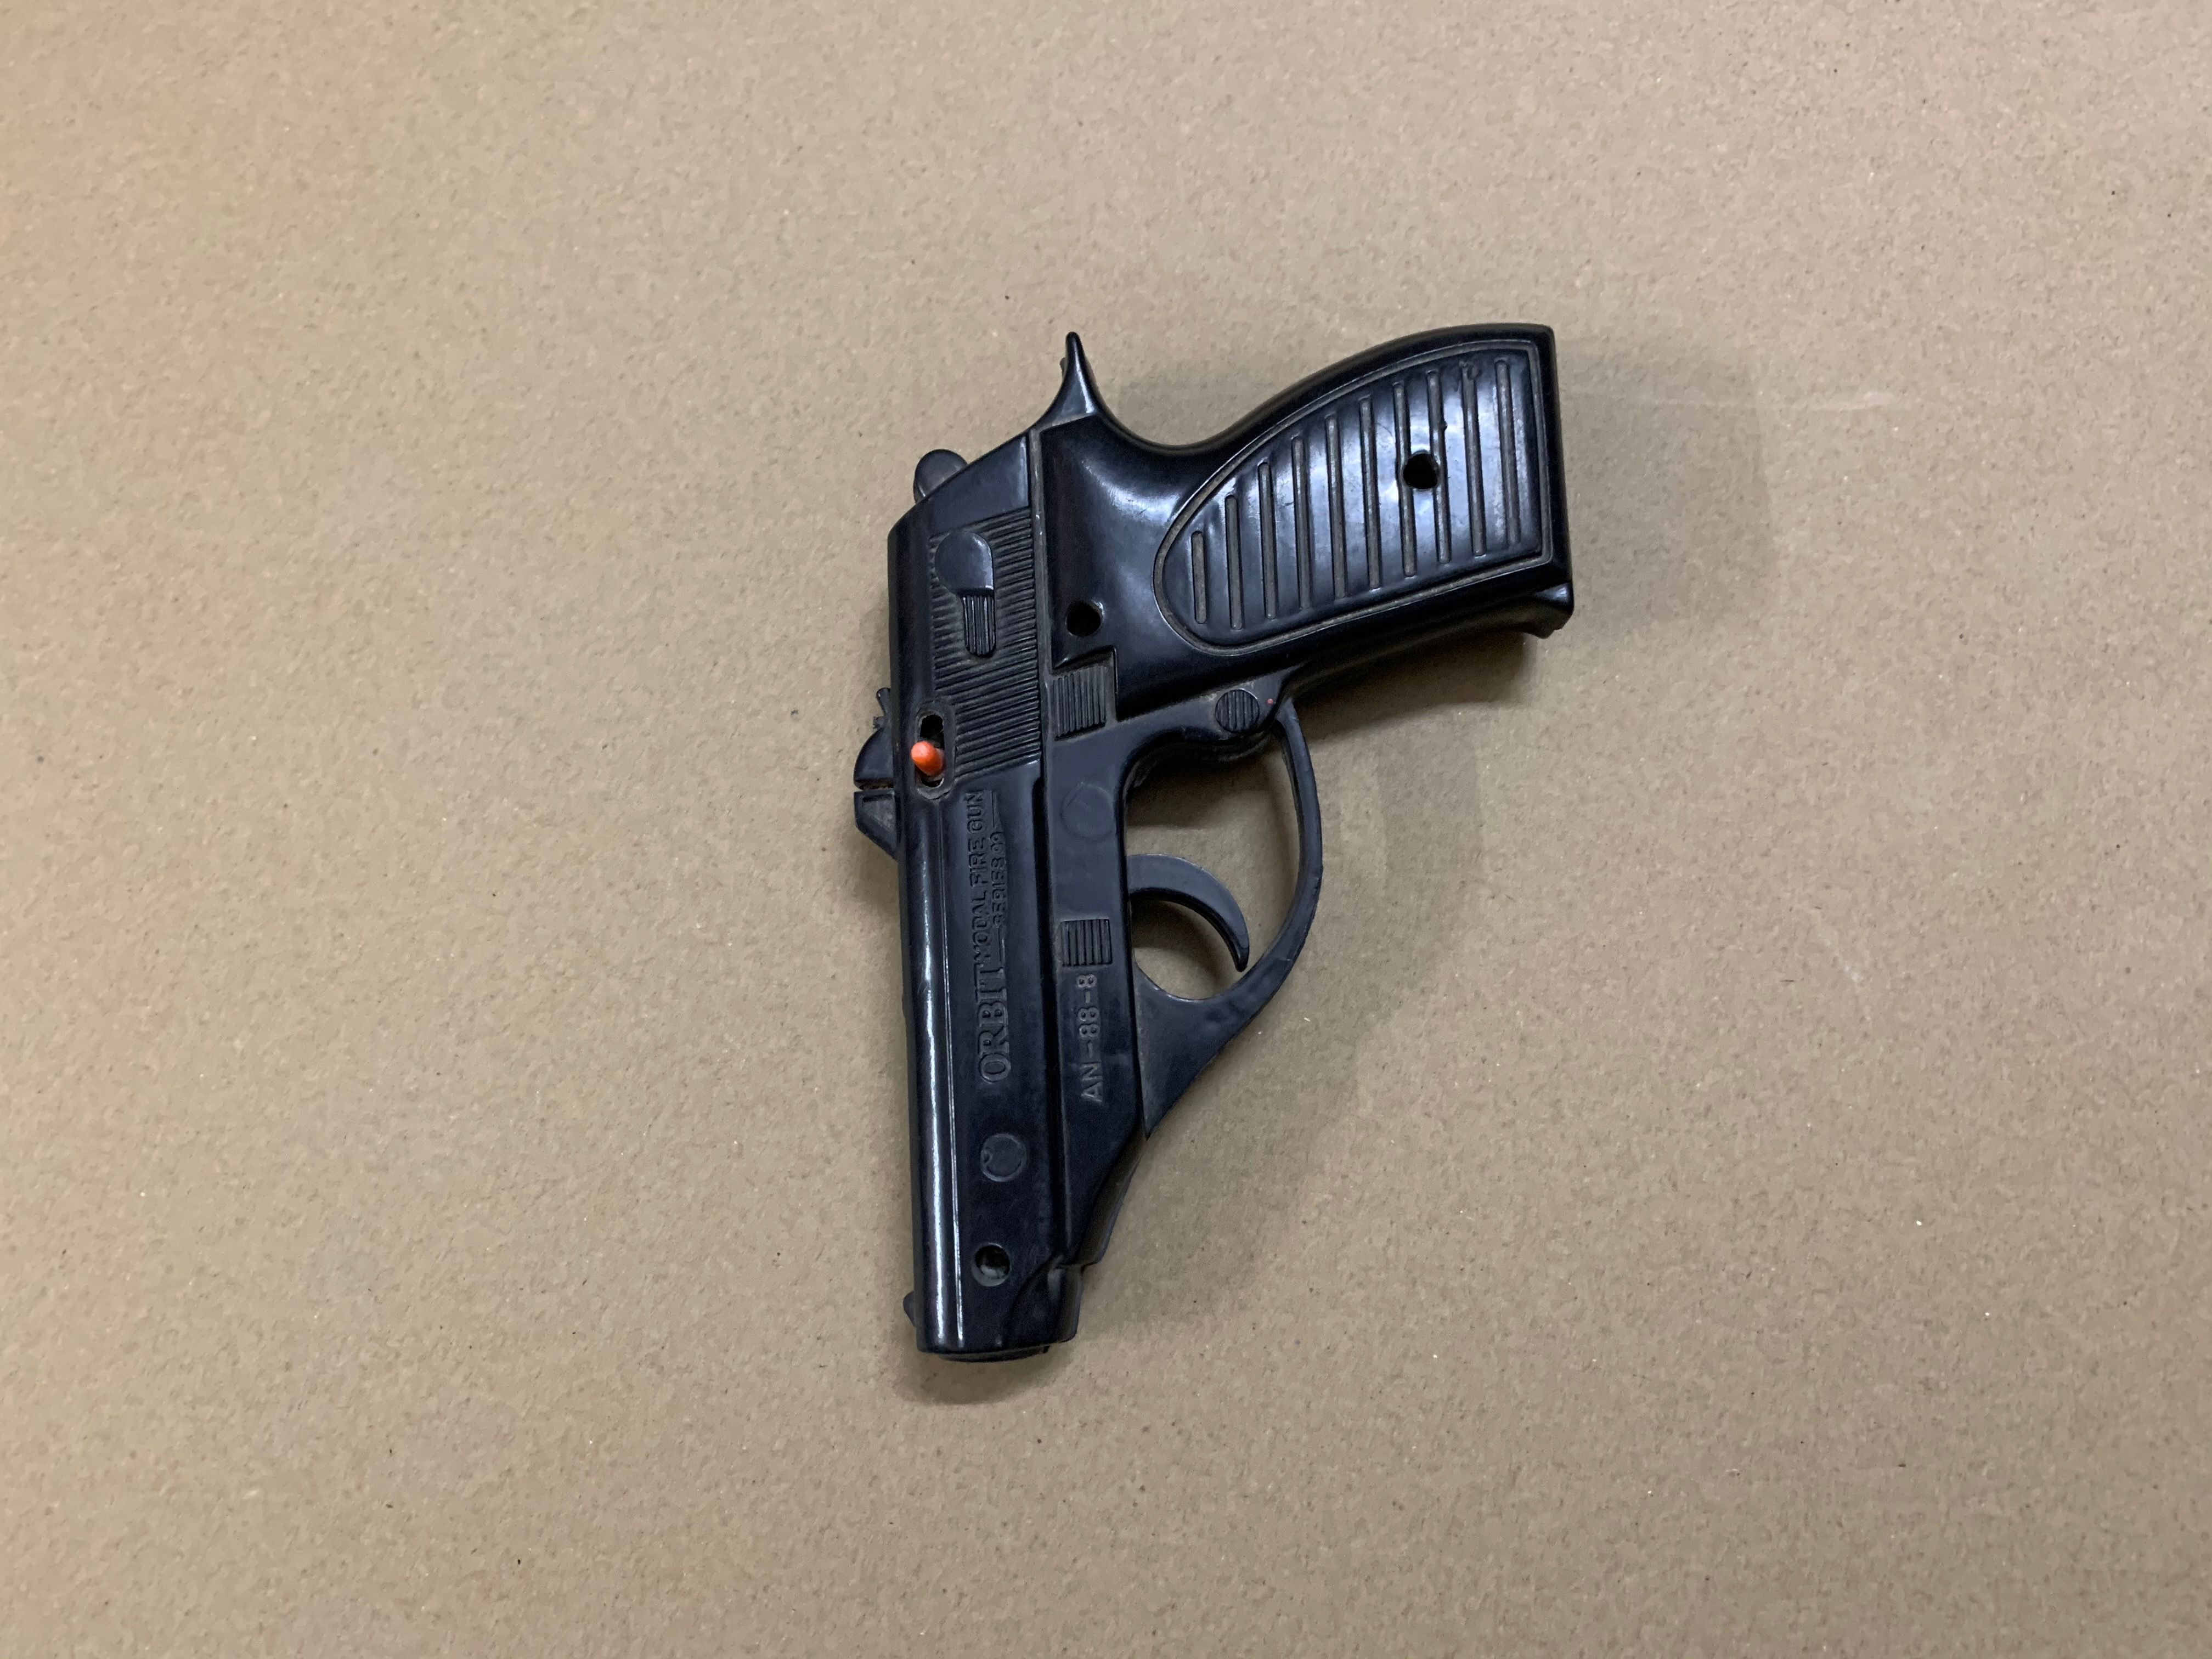gun: (852, 315, 1578, 1368)
